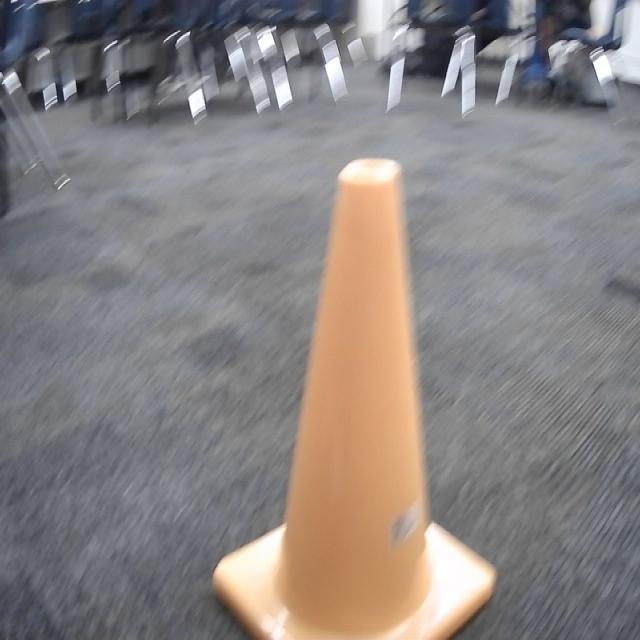cone: (213, 158, 499, 640)
